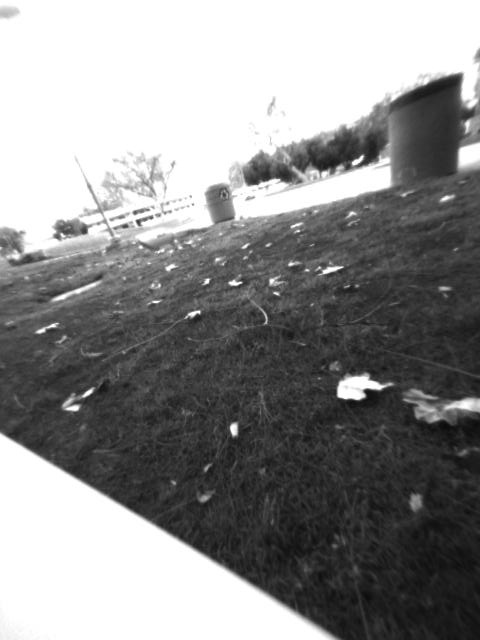trashcan: (384, 69, 466, 183), (202, 180, 240, 225)
